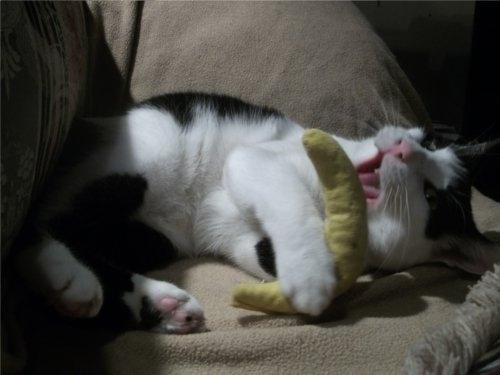banana: (231, 130, 369, 314)
